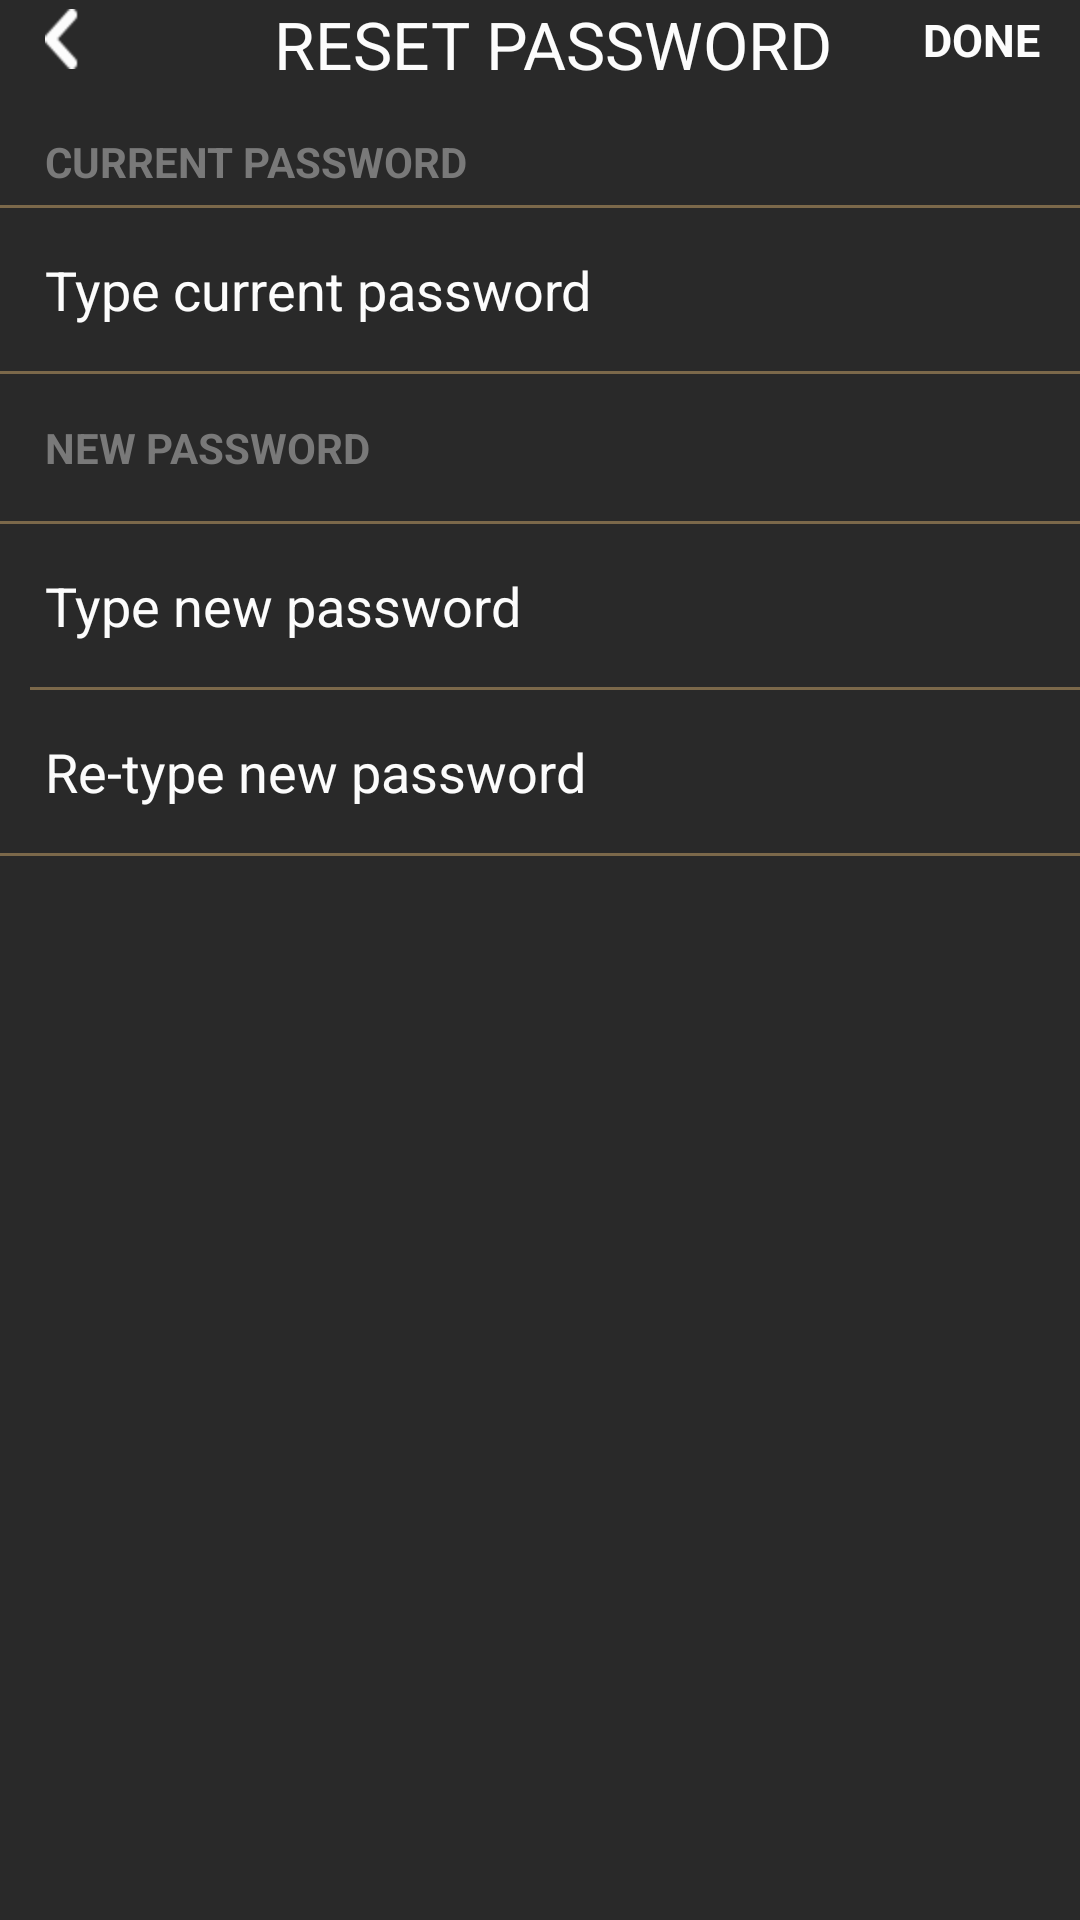

Named icons in this screenshot (1080 x 1920) and their bounding boxes, (x1, y1, x2, y2):
wolfpack back arrow: (45, 9, 78, 69)
